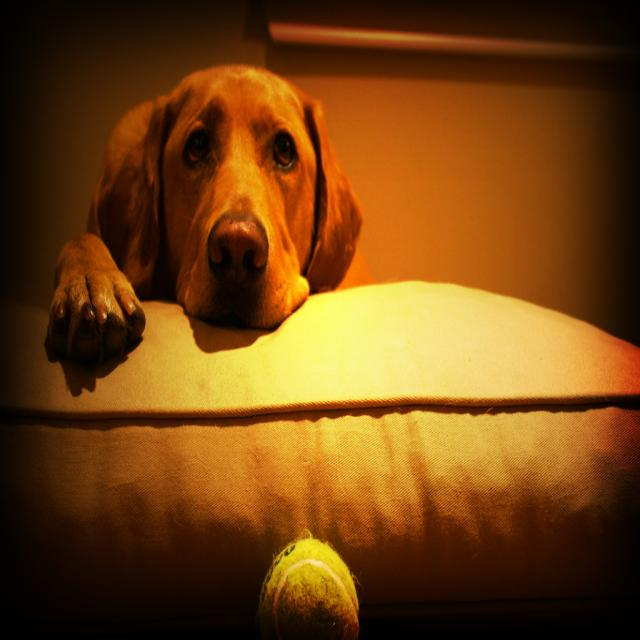Tennis ball: (258, 547, 363, 634)
